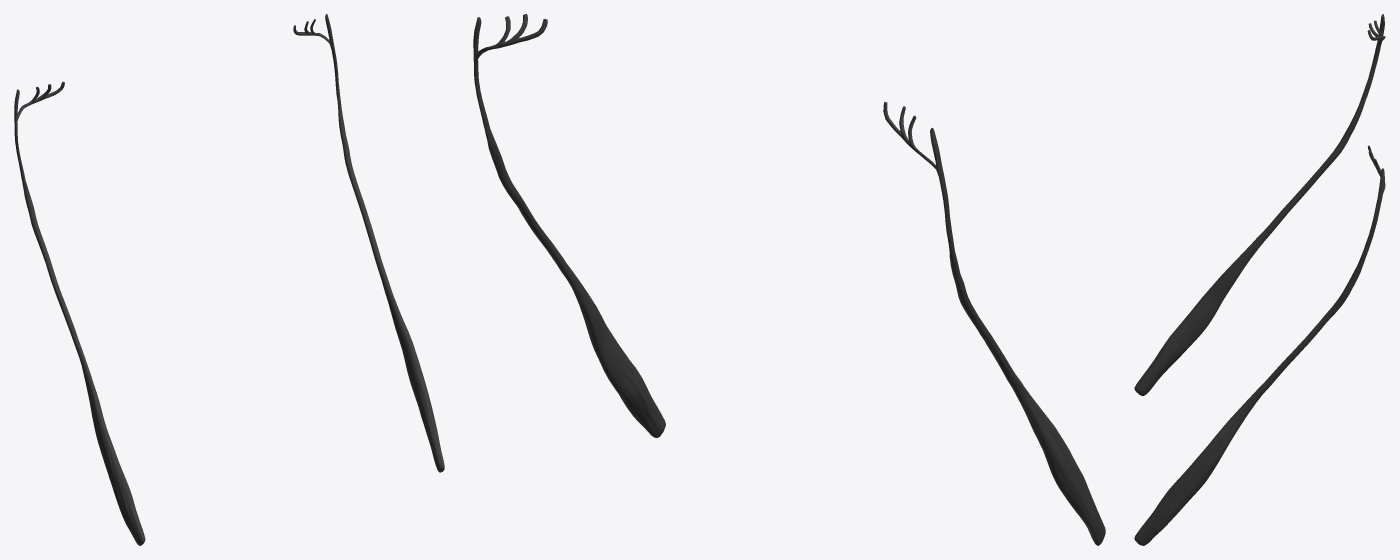
File: m_peroneus_longus.glb
3 views of the same model, side by side, from view 1: azimuth 30°, elevation 25°; view 2: azimuth 150°, elevation 25°; view 3: azimuth 270°, elevation 25° (orthographic). The views are drawn at different scales.
Parts seen in each view (by area): view 1: m_peroneus_longus; view 2: m_peroneus_longus; view 3: m_peroneus_longus.
Boxes of the visible parts, bbox=[...] form: m_peroneus_longus: bbox=[14, 14, 444, 545]; m_peroneus_longus: bbox=[473, 14, 1105, 545]; m_peroneus_longus: bbox=[1134, 14, 1385, 545].
Size of the model in its own units: 0.00562 by 0.00626 by 0.00372.
1 material, 1 textured.
